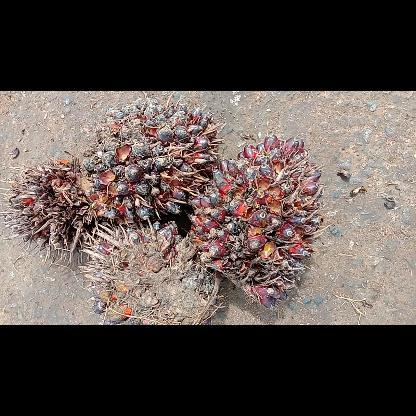TBS abnormal: (188, 135, 330, 309), (83, 90, 223, 222), (0, 156, 140, 264), (80, 218, 222, 324)
